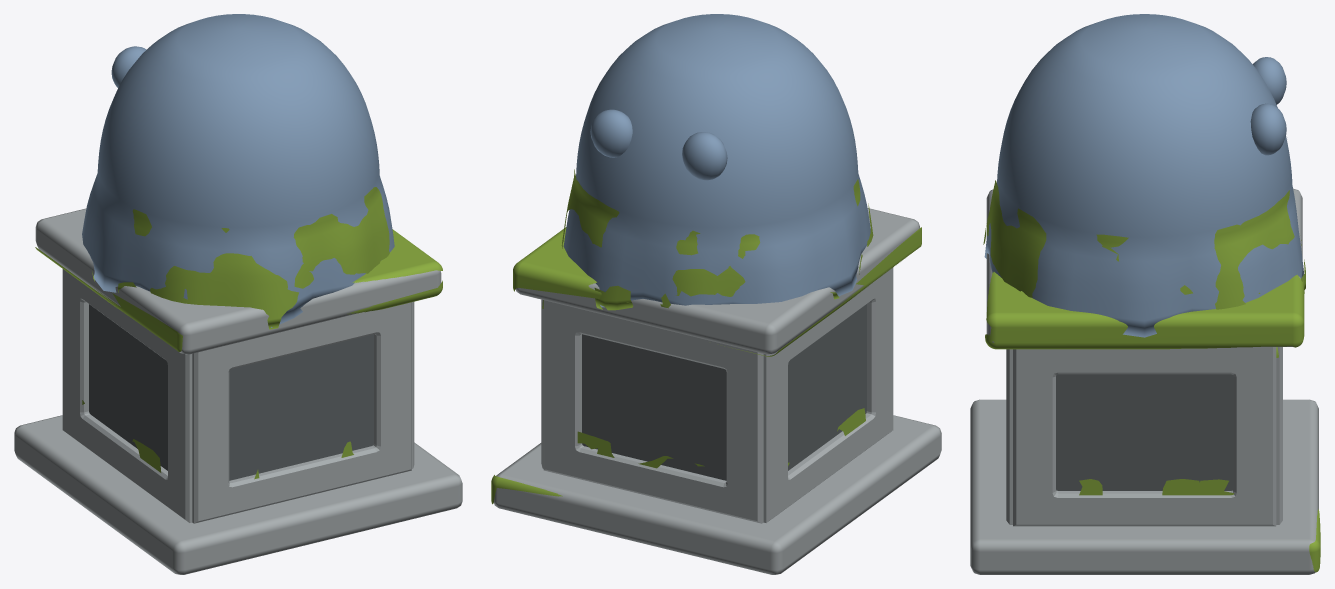
Rendered from GROVE_SLIME_STATUE.glb.
3 views of the same model, side by side, from view 1: azimuth 30°, elevation 25°; view 2: azimuth 150°, elevation 25°; view 3: azimuth 270°, elevation 25° (orthographic). The views are drawn at different scales.
Visible parts, largest first — view 1: slime, panel_frames, panel_recess, base, moss, cap; view 2: slime, panel_frames, panel_recess, base, moss, cap; view 3: slime, panel_frames, base, moss, panel_recess, cap.
Boxes of the visible parts, left/top/right/bottom form: slime: left=82, top=14, right=394, bottom=327; panel_frames: left=62, top=269, right=414, bottom=523; panel_recess: left=89, top=304, right=373, bottom=480; base: left=14, top=415, right=462, bottom=574; moss: left=35, top=187, right=442, bottom=479; cap: left=35, top=208, right=441, bottom=354; slime: left=563, top=14, right=870, bottom=307; panel_frames: left=541, top=267, right=893, bottom=523; panel_recess: left=582, top=304, right=866, bottom=480; base: left=494, top=415, right=941, bottom=574; moss: left=491, top=169, right=921, bottom=504; cap: left=515, top=208, right=919, bottom=354; slime: left=984, top=14, right=1303, bottom=337; panel_frames: left=1006, top=347, right=1282, bottom=526; base: left=970, top=399, right=1318, bottom=574; moss: left=983, top=180, right=1320, bottom=572; panel_recess: left=1056, top=374, right=1233, bottom=490; cap: left=986, top=188, right=1302, bottom=346.
Bounding box in the file's own units: 5.32 × 7.97 × 5.32.
